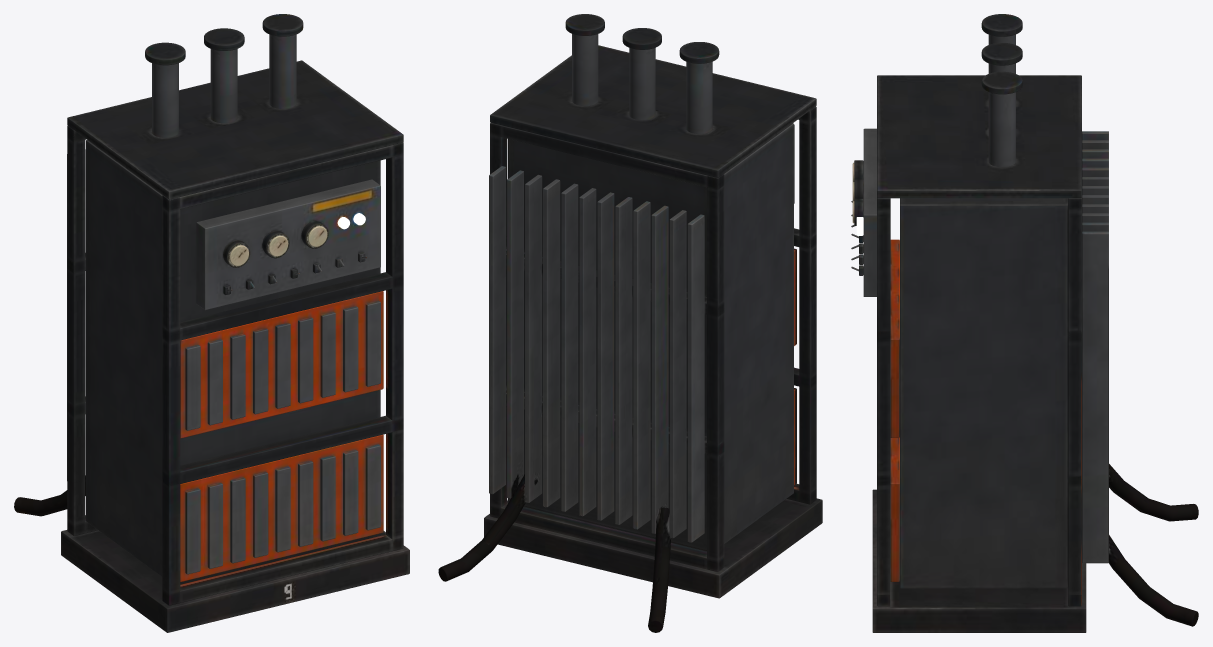
File: generator.glb
3 renders of one model, left to right at view 1: azimuth 30°, elevation 25°; view 2: azimuth 150°, elevation 25°; view 3: azimuth 270°, elevation 25°, orthographic. The views are drawn at different scales.
Parts seen in each view (by area): view 1: generator; view 2: generator; view 3: generator.
Boxes of the visible parts, left/top/right/bottom form: generator: left=14, top=14, right=409, bottom=632; generator: left=438, top=14, right=822, bottom=632; generator: left=851, top=14, right=1198, bottom=632.
Size of the model in its own units: 1.24 by 2.54 by 1.53.
2 materials, 2 textured.
